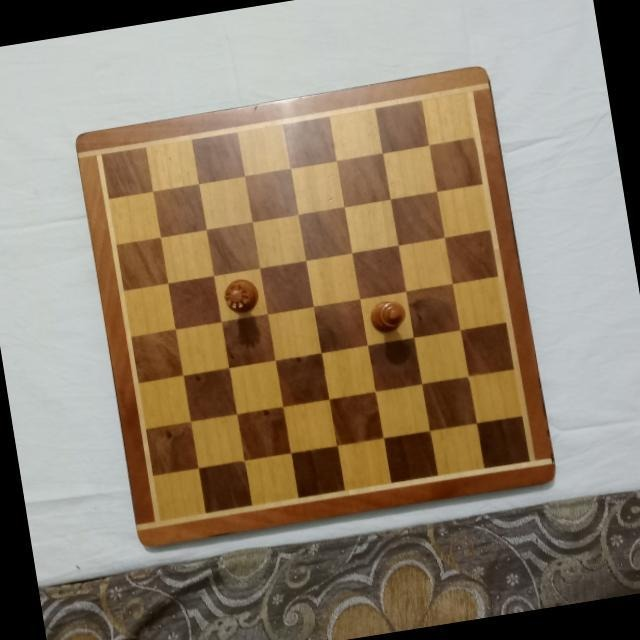white-king: (368, 296, 411, 336)
white-queen: (219, 275, 260, 314)
